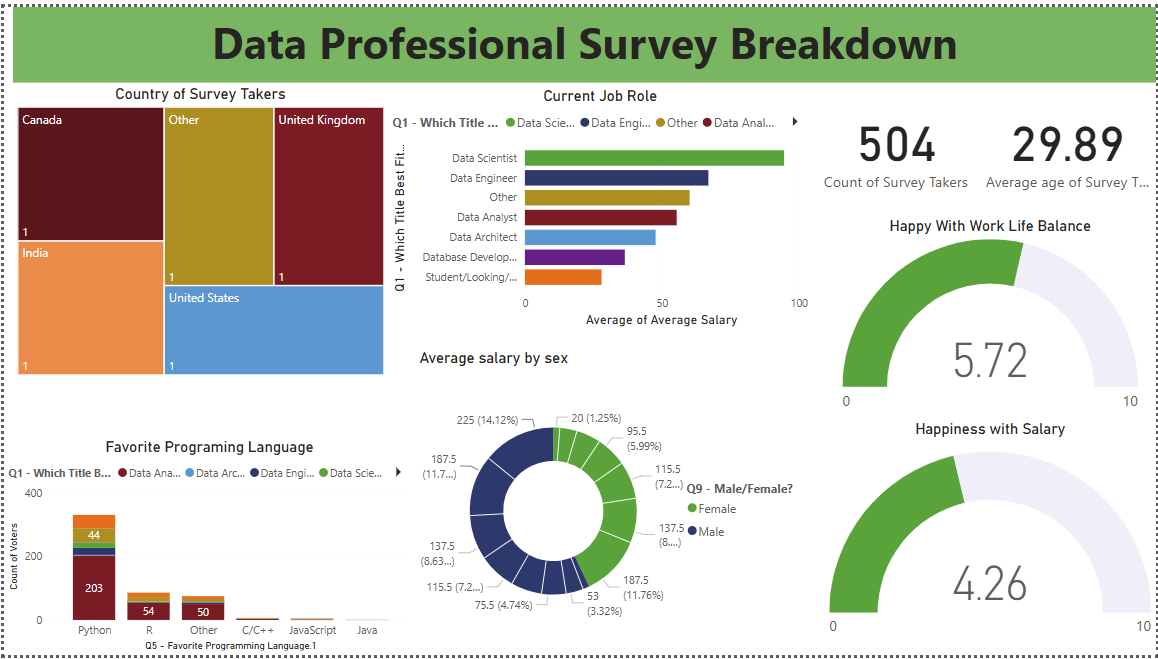

What the dashboard file says about the page in this screenshot:
{"tool":"powerbi","page":{"name":"Page 1","canvas":[1280,720],"ordinal":0},"visuals":[{"type":"textbox","box":[9.5,0,1270.9,84.3],"z":0},{"type":"card","fields":{"Values":["CountNonNull(Data Professional Survey.Unique ID)"]},"box":[898.3,86.7,185,138.3],"z":1000},{"type":"card","fields":{"Values":["Avg(Data Professional Survey.Q10 - Current Age)"]},"box":[1083.3,86.7,196.7,138.3],"z":2000},{"type":"barChart","title":"Current Job Role","fields":{"Category":["Data Professional Survey.Q1 - Which Title Best Fits your Current Role?.1"],"Y":["Avg(Data Professional Survey.Average Salary)"],"Series":["Data Professional Survey.Q1 - Which Title Best Fits your Current Role?.1"]},"box":[426.7,88.3,471.7,271.7],"z":3000},{"type":"columnChart","title":"Favorite Programing Language","fields":{"Category":["Data Professional Survey.Q5 - Favorite Programming Language.1"],"Y":["CountNonNull(Data Professional Survey.Unique ID)"],"Series":["Data Professional Survey.Q1 - Which Title Best Fits your Current Role?.1"]},"box":[0,478.3,456.7,241.7],"z":4000},{"type":"treemap","title":"Country of Survey Takers","fields":{"Group":["Data Professional Survey.Q11 - Which Country do you live in?.1"],"Values":["Count(Data Professional Survey.Q11 - Which Country do you live in?.1)"]},"box":[10,86.7,416.7,326.7],"z":5000},{"type":"gauge","title":"Happiness with Salary","fields":{"Y":["Avg(Data Professional Survey.Q6 - How Happy are you in your Current Position with the following? (Salary))"],"MinValue":["Min(Data Professional Survey.Q6 - How Happy are you in your Current Position with the following? (Salary))"],"MaxValue":["Max(Data Professional Survey.Q6 - How Happy are you in your Current Position with the following? (Salary))"]},"box":[911.7,458.3,368.3,261.7],"z":6000},{"type":"gauge","title":"Happy With Work Life Balance","fields":{"Y":["Avg(Data Professional Survey.Q6 - How Happy are you in your Current Position with the following? (Work/Life Balance))"],"MinValue":["Min(Data Professional Survey.Q6 - How Happy are you in your Current Position with the following? (Work/Life Balance))1"],"MaxValue":["Max(Data Professional Survey.Q6 - How Happy are you in your Current Position with the following? (Work/Life Balance))2"]},"box":[911.7,233.3,368.3,225],"z":7000},{"type":"donutChart","title":"Average salary by sex","fields":{"Category":["Data Professional Survey.Q9 - Male/Female?"],"Y":["Avg(Data Professional Survey.Average Salary)"],"Series":["Data Professional Survey.Average Salary"]},"box":[456.7,380,441.7,340],"z":7001}]}

Visuals, with their boxes in screenshot pixels (x1, y1, x2, y2), scaled from the page's 1280x720 canvas onto the 1158x659 screenshot:
textbox: region(9, 0, 1157, 77)
card - CountNonNull(Data Professional Survey.Unique ID): region(813, 79, 980, 206)
card - Avg(Data Professional Survey.Q10 - Current Age): region(980, 79, 1157, 206)
"Current Job Role" barChart: region(386, 81, 813, 330)
"Favorite Programing Language" columnChart: region(0, 438, 413, 658)
"Country of Survey Takers" treemap: region(9, 79, 386, 378)
"Happiness with Salary" gauge: region(825, 419, 1157, 658)
"Happy With Work Life Balance" gauge: region(825, 214, 1157, 419)
"Average salary by sex" donutChart: region(413, 348, 813, 658)
